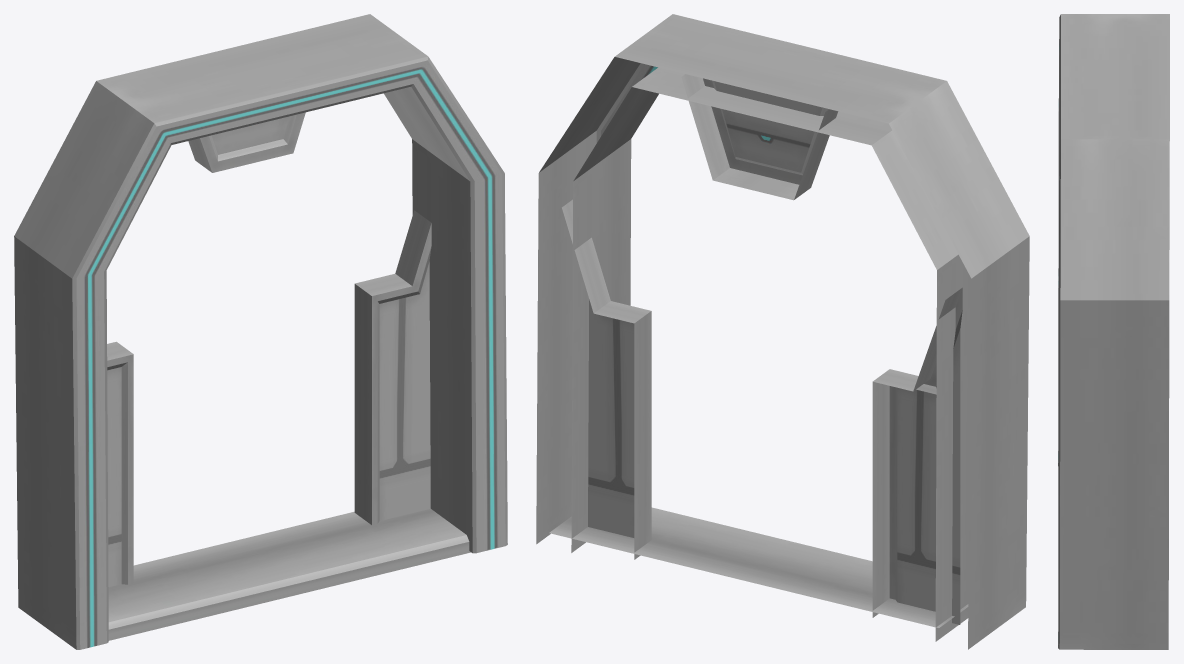
Rendered from door_01_open.fbx.
3 renders of one model, left to right at view 1: azimuth 30°, elevation 25°; view 2: azimuth 150°, elevation 25°; view 3: azimuth 270°, elevation 25°, orthographic. The views are drawn at different scales.
Visible parts, largest first — view 1: pPipe1, pCube3, pCube11, pCube14, pCube13; view 2: pPipe1, pCube14, pCube11, pCube3, pCube13; view 3: pPipe1.
Part boxes in pixels (left/top/right/bottom): pPipe1: left=14, top=14, right=507, bottom=649; pCube3: left=108, top=508, right=470, bottom=640; pCube11: left=354, top=210, right=431, bottom=525; pCube14: left=107, top=341, right=133, bottom=586; pCube13: left=188, top=112, right=305, bottom=172; pPipe1: left=536, top=14, right=1029, bottom=649; pCube14: left=872, top=287, right=962, bottom=624; pCube11: left=562, top=199, right=651, bottom=559; pCube3: left=549, top=507, right=968, bottom=627; pCube13: left=681, top=74, right=838, bottom=200; pPipe1: left=1058, top=14, right=1169, bottom=649.
Size of the model in its own units: 3.66 by 4.09 by 0.8688.
